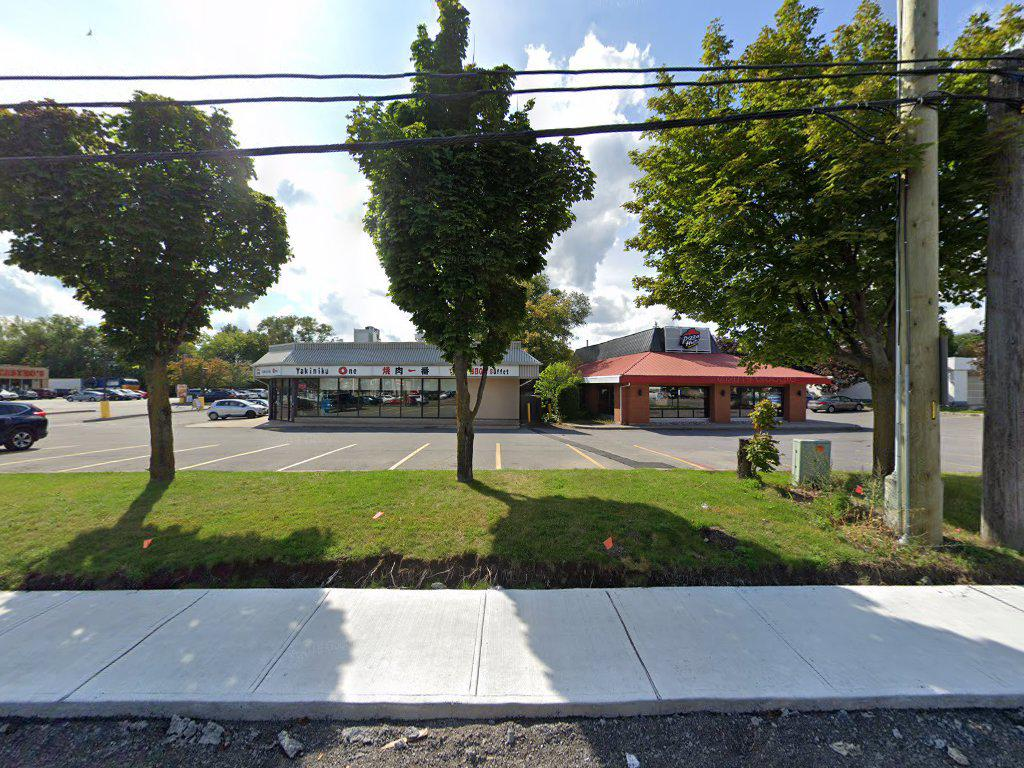trunk: (136, 340, 187, 494), (442, 339, 486, 492), (866, 341, 891, 481)
